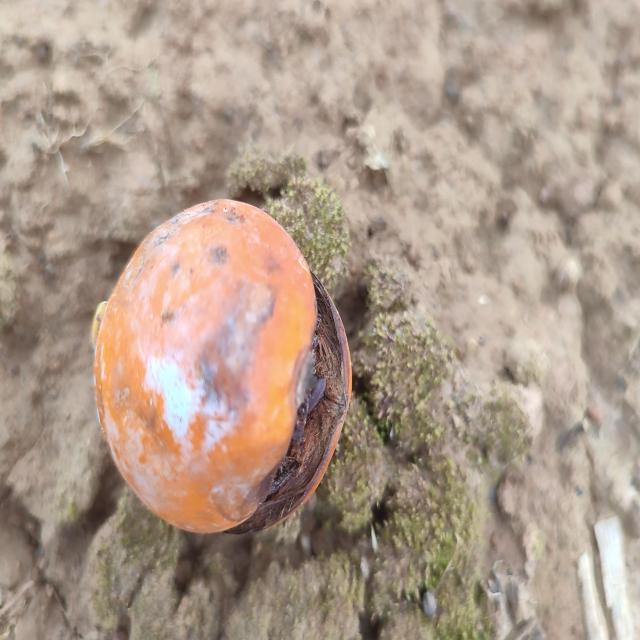damaged: (92, 200, 346, 538)
